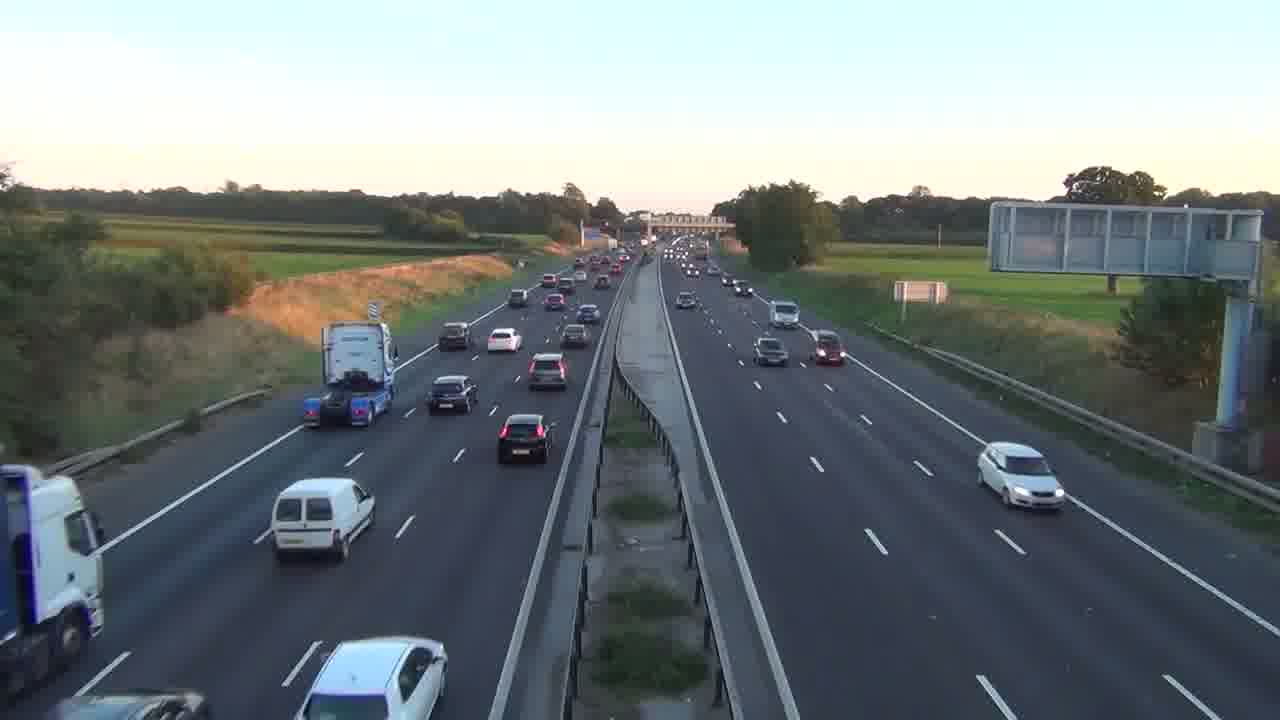bus: (319, 321, 399, 428)
car: (293, 634, 449, 719), (976, 440, 1066, 512), (497, 413, 550, 465), (427, 373, 474, 414), (527, 351, 569, 390), (753, 334, 790, 366), (487, 327, 522, 353), (560, 322, 592, 349), (674, 290, 697, 310)
truck: (0, 465, 107, 700), (252, 475, 376, 560), (438, 321, 470, 351), (768, 299, 800, 327)
